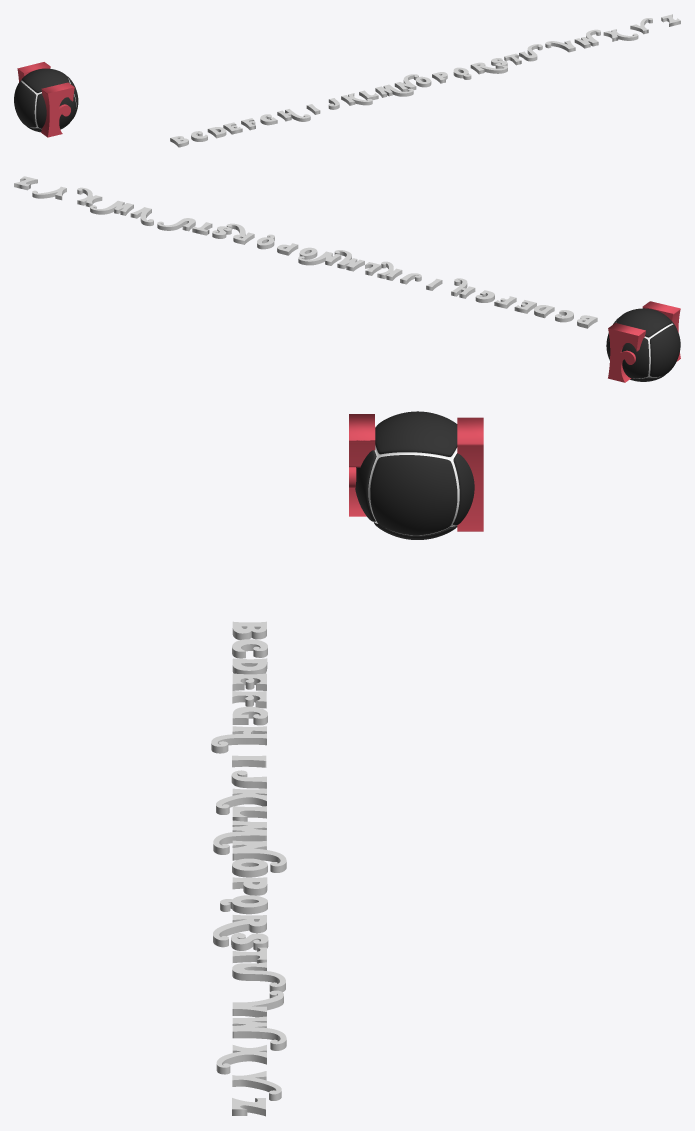
The picture shows the model from 3 angles, top to bottom: view 1: azimuth 30°, elevation 25°; view 2: azimuth 150°, elevation 25°; view 3: azimuth 270°, elevation 25°; orthographic projection. The views are drawn at different scales.
Parts seen in each view (by area): view 1: Cube.001, A, M, W, R, H, A.001, N, X, U, K, V; view 2: Cube.001, A.001, A, W, N, M, U, H; view 3: Cube.001, A.001, A, W, M, N.
Boxes of the visible parts, x1,y1,x2,y2 form: Cube.001: (14,68,78,132); A: (41,82,74,137); M: (375,84,413,97); W: (574,29,600,48); R: (470,62,507,74); H: (277,109,310,121); A.001: (17,62,50,81); N: (394,74,418,91); X: (603,29,638,41); U: (519,44,542,61); K: (341,93,372,105); V: (545,40,575,52); Cube.001: (606,308,680,381); A.001: (608,323,645,382); A: (642,301,680,361); W: (90,200,133,215); N: (298,251,341,265); M: (334,250,364,271); U: (157,218,195,231); H: (451,278,475,298); Cube.001: (355,411,474,539); A.001: (457,417,483,531); A: (349,414,375,516); W: (232,1016,286,1050); M: (213,820,266,854); N: (232,840,286,872).
Bounding box in the file's own units: 1885 × 185 × 361.
